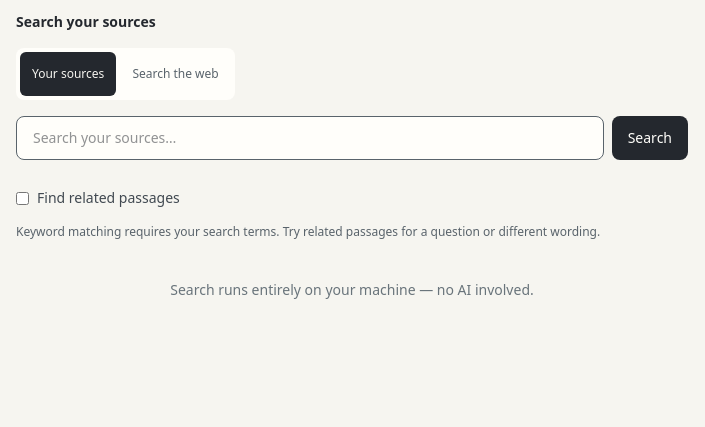
Test case: triplicated snippet text renders once with an also-in-2 note
The image size is (705, 427).
Type "cells" into the search field with placeholder "Search your sources…" at {"x": 310, "y": 138}, box x1=16 y1=116 x2=604 y2=160
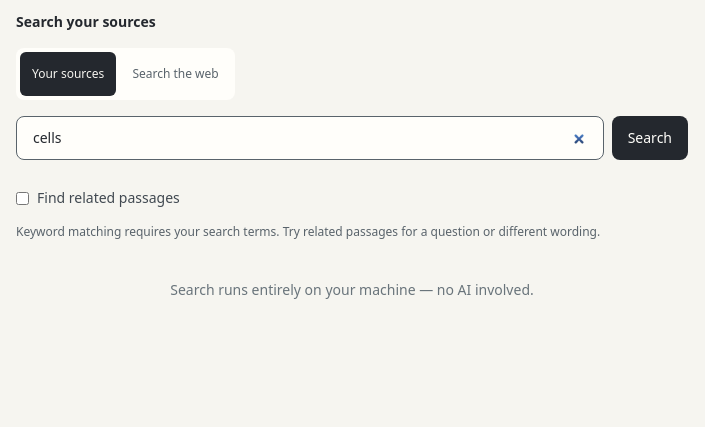
Click the button with aria-label "submit search" at {"x": 650, "y": 138}, box x1=612 y1=116 x2=688 y2=160
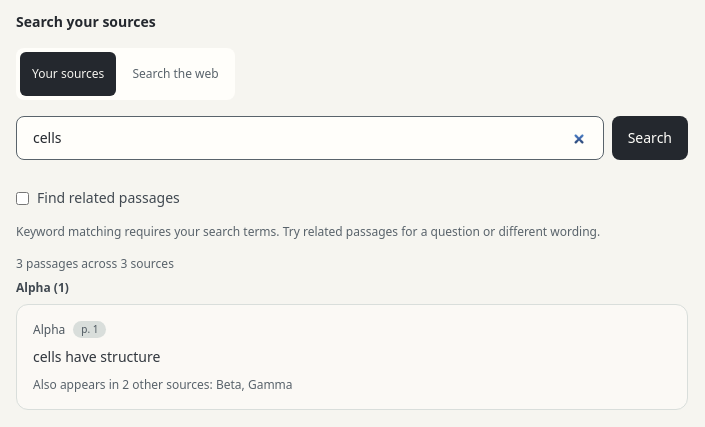
Expected: the text "cells have structure" is shown, x1=33 y1=347 x2=160 y2=366
Expected: the number of list items is 1, x1=16 y1=304 x2=688 y2=410
Expected: the text "Also appears in 2 other sources: Beta, Gamma" is shown, x1=33 y1=376 x2=293 y2=393
